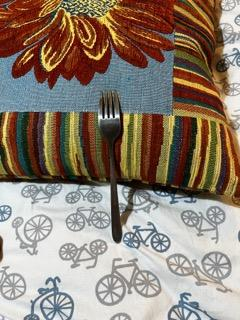fork: (99, 88, 129, 244)
